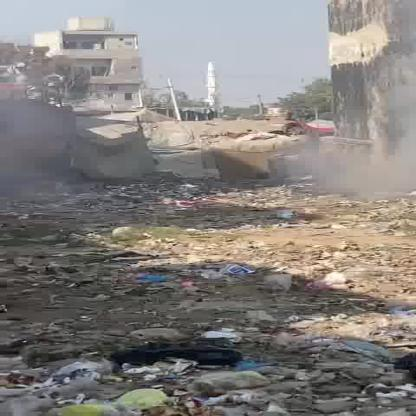Garbage: (6, 185, 416, 416)
